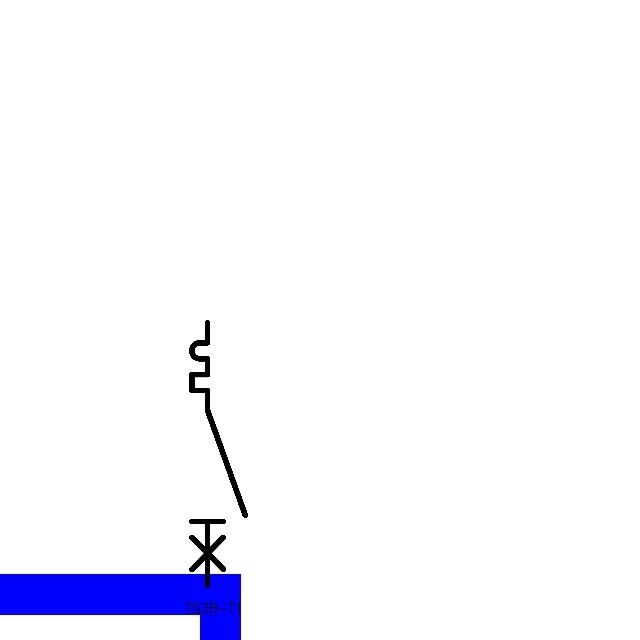interruptor_termomagnetico: (185, 316, 252, 592)
